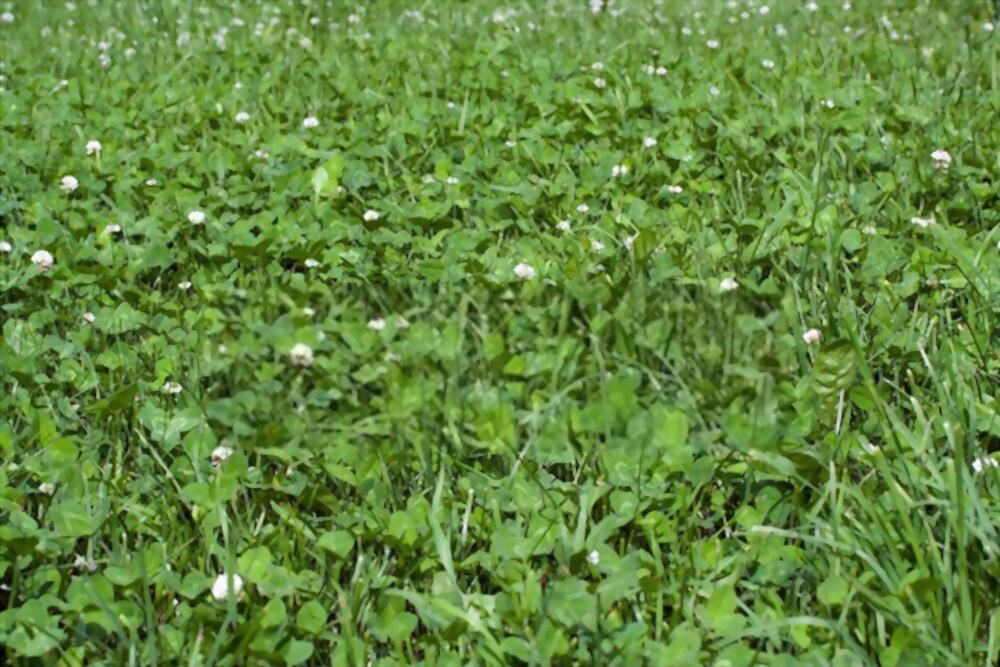clover: (15, 21, 987, 660)
